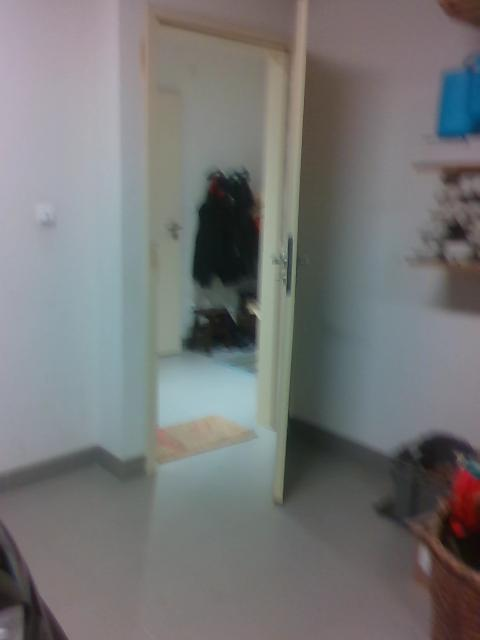open_door: (138, 6, 302, 483)
